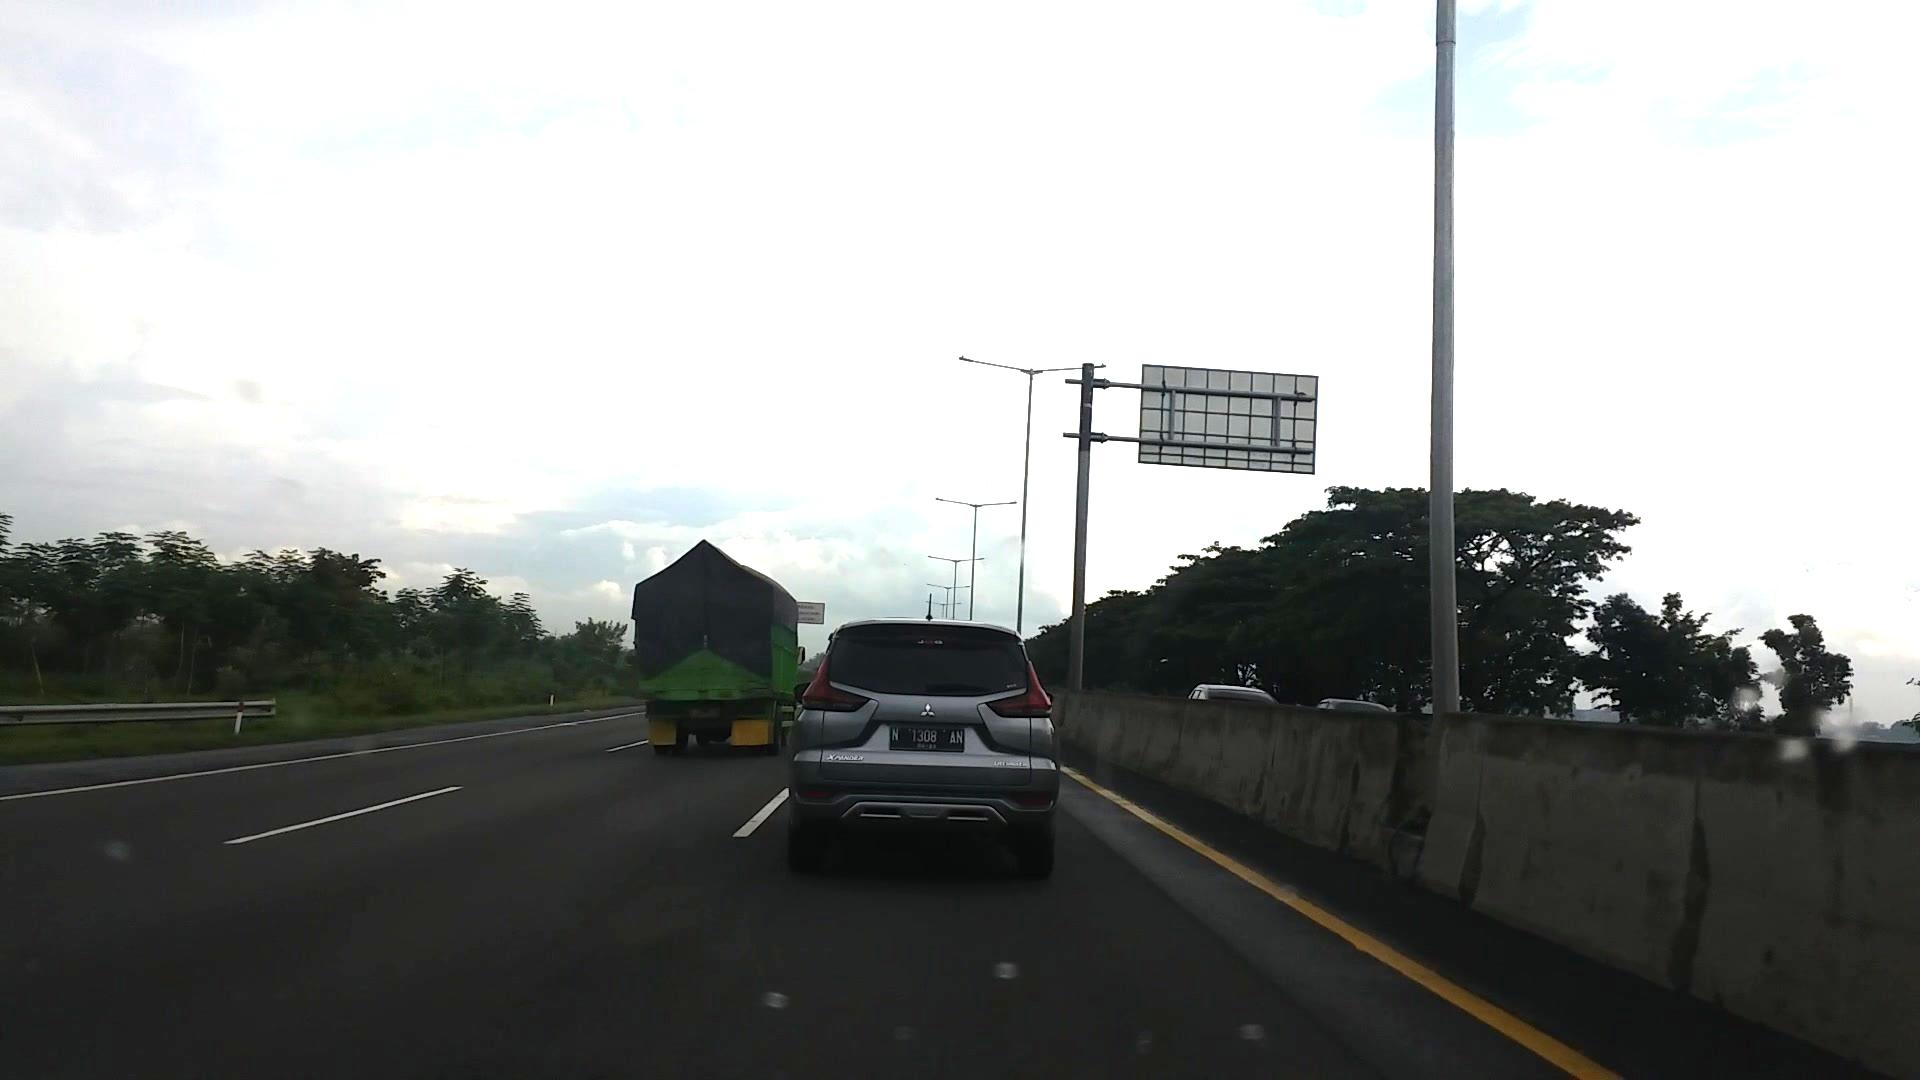plate_positive: (889, 724, 965, 752)
